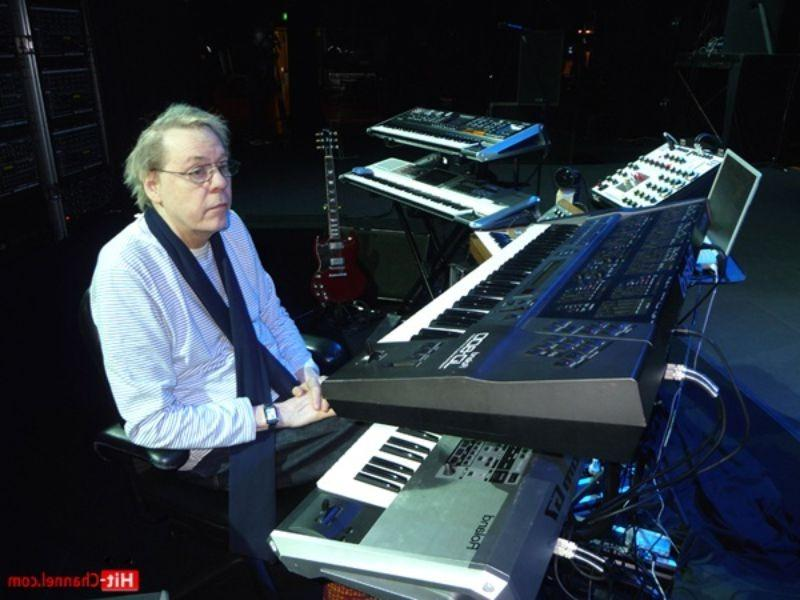synthesizer: (324, 238, 690, 410), (318, 426, 548, 577), (358, 93, 544, 157), (324, 168, 484, 222)
